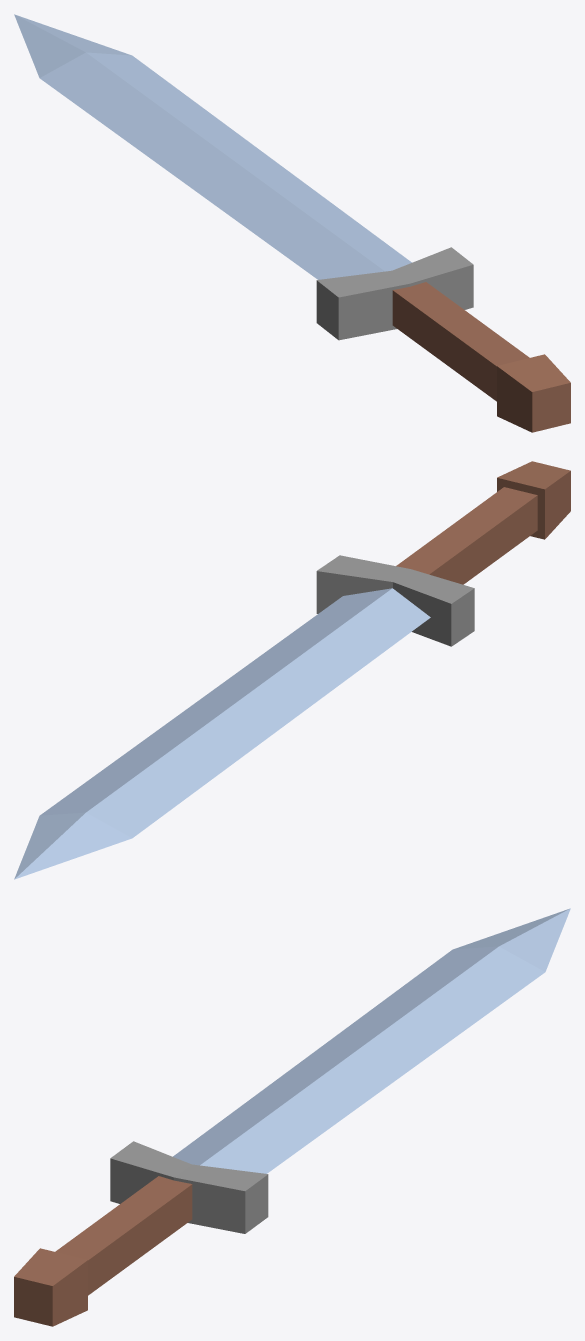
The model's file is Sword.fbx.
3 views of the same model, one above another, from view 1: azimuth 30°, elevation 25°; view 2: azimuth 150°, elevation 25°; view 3: azimuth 330°, elevation 25° (orthographic).
Parts seen in each view (by area): view 1: Cube.002, Cube.001, Cube, Cube.003; view 2: Cube.002, Cube, Cube.001, Cube.003; view 3: Cube.002, Cube.001, Cube, Cube.003.
Part boxes in pixels (<box>): Cube.002: <box>14,14,411,279</box>; Cube.001: <box>316,247,473,340</box>; Cube: <box>392,282,529,401</box>; Cube.003: <box>497,354,570,432</box>; Cube.002: <box>14,588,430,879</box>; Cube: <box>396,478,544,584</box>; Cube.001: <box>316,555,474,646</box>; Cube.003: <box>497,461,570,538</box>; Cube.002: <box>173,908,570,1173</box>; Cube.001: <box>110,1141,268,1233</box>; Cube: <box>55,1176,192,1295</box>; Cube.003: <box>14,1248,87,1326</box>.
Size of the model in its own units: 338 by 120 by 2320.
